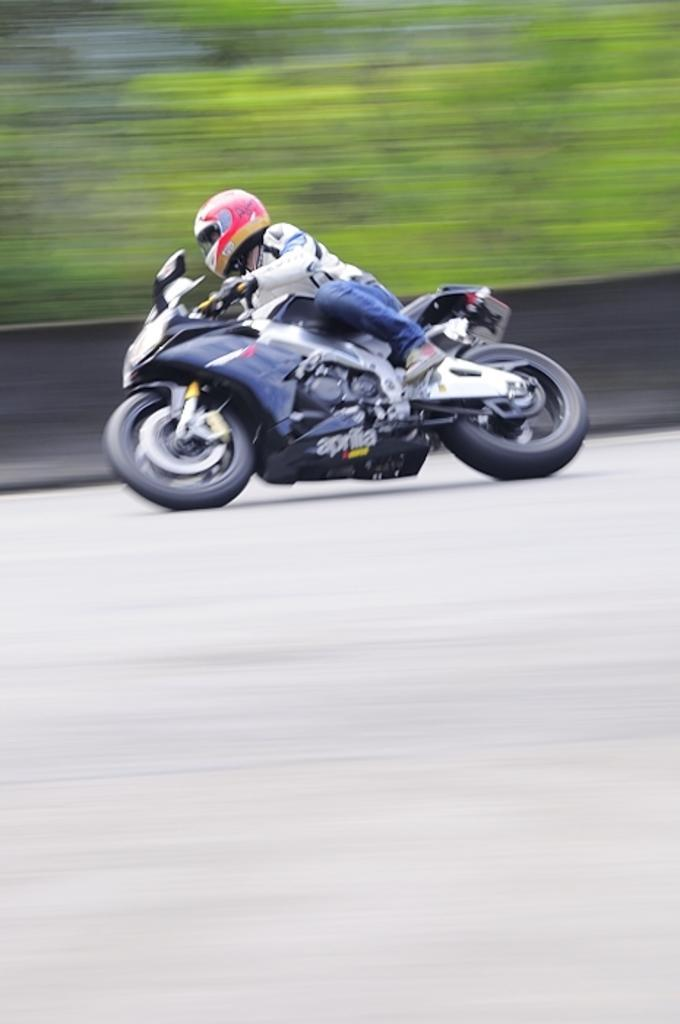helmet: (193, 187, 272, 280)
